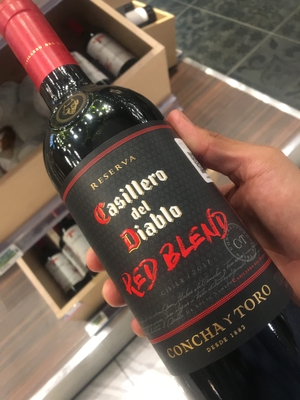casillero del diablo red blend: (17, 16, 299, 396)
